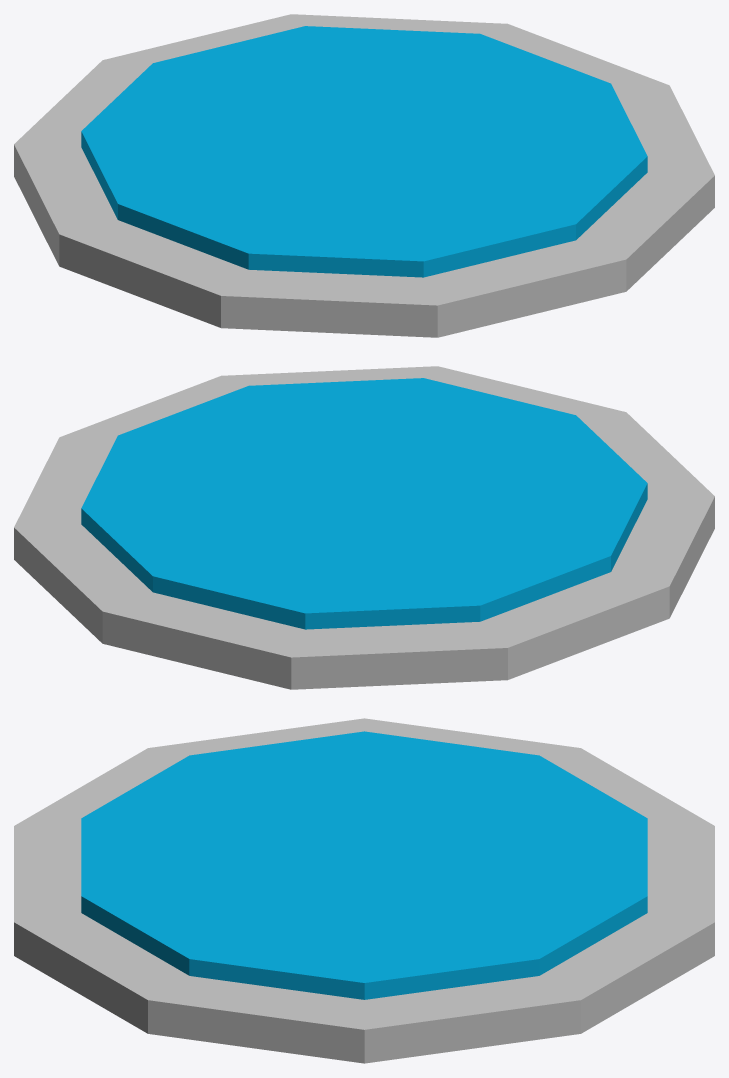
Rendered from Portal.fbx.
The picture shows the model from 3 angles, top to bottom: view 1: azimuth 30°, elevation 25°; view 2: azimuth 150°, elevation 25°; view 3: azimuth 270°, elevation 25°; orthographic projection. The views are drawn at different scales.
Visible parts, largest first — view 1: Station; view 2: Station; view 3: Station.
Part boxes in pixels (x1,y1,x2,y2): Station: [14, 14, 714, 337]; Station: [14, 366, 714, 689]; Station: [14, 718, 714, 1063].
Bounding box in the file's own units: 19.8 × 1.5 × 18.83.
